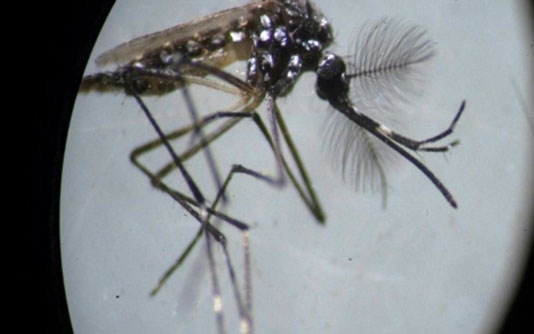dengue_mosquito: (78, 1, 458, 210)
